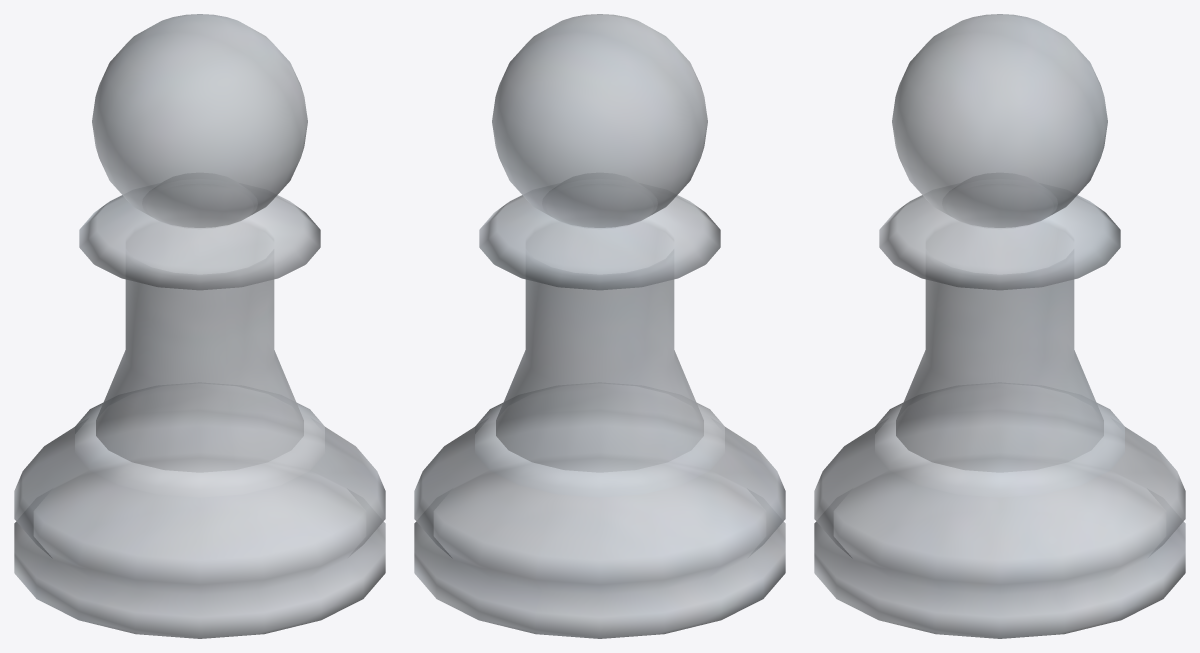
The model's file is Pawn.glb.
3 views of the same model, side by side, from view 1: azimuth 30°, elevation 25°; view 2: azimuth 150°, elevation 25°; view 3: azimuth 270°, elevation 25° (orthographic).
Visible parts, largest first — view 1: Chess_07 - Default_0; view 2: Chess_07 - Default_0; view 3: Chess_07 - Default_0.
Boxes of the visible parts, left/top/right/bottom form: Chess_07 - Default_0: left=14, top=14, right=385, bottom=638; Chess_07 - Default_0: left=414, top=14, right=785, bottom=638; Chess_07 - Default_0: left=814, top=14, right=1185, bottom=638.
Size of the model in its own units: 0.4527 by 0.7284 by 0.4458.
1 material, 1 textured.
